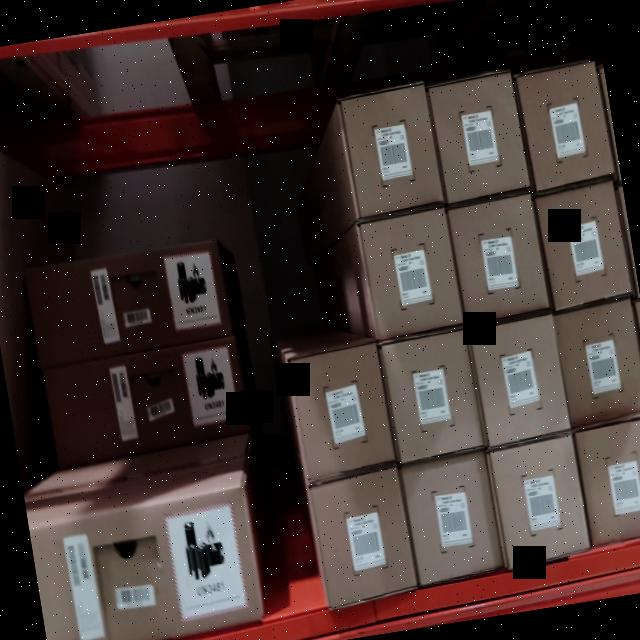box: (45, 337, 244, 456), (30, 246, 227, 358), (309, 475, 416, 601), (340, 90, 443, 220), (294, 347, 394, 478), (384, 336, 486, 464), (430, 73, 531, 201), (471, 319, 571, 442), (452, 198, 550, 322), (362, 216, 462, 335), (494, 442, 590, 564), (405, 462, 503, 576)
